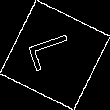L_E: (26, 32, 84, 78)
